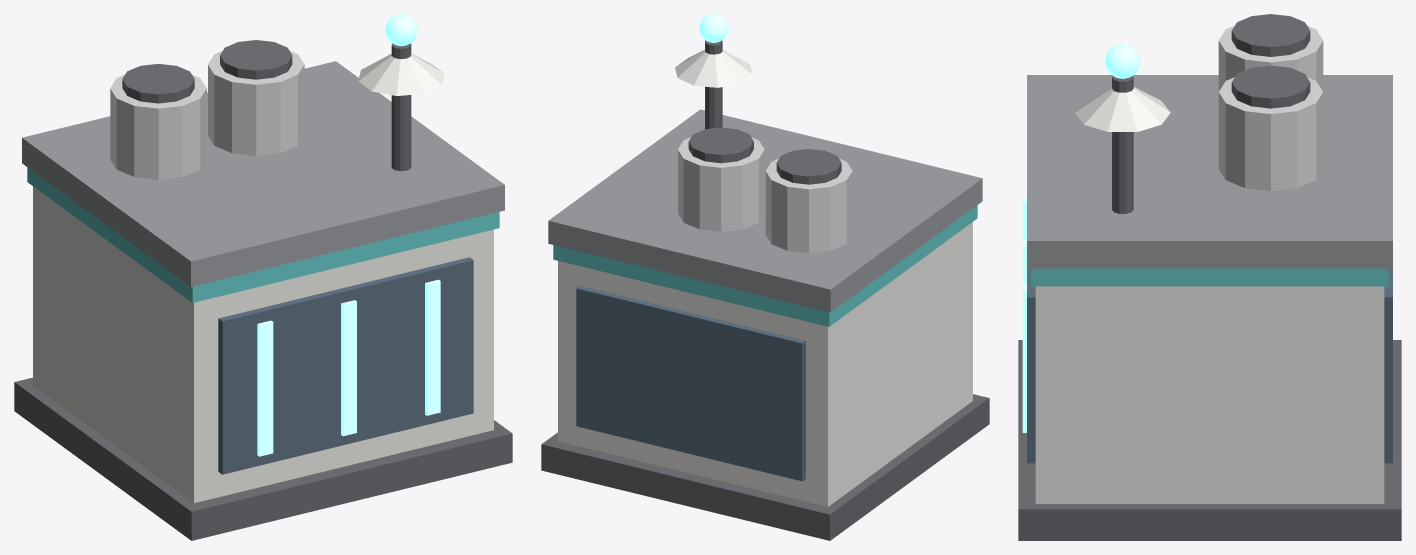
The model's file is data_center.glb.
3 renders of one model, left to right at view 1: azimuth 30°, elevation 25°; view 2: azimuth 150°, elevation 25°; view 3: azimuth 270°, elevation 25°, orthographic. The views are drawn at different scales.
Parts seen in each view (by area): view 1: hull, roof, rack_front, plinth, cooler_a, cooler_b, trim, dish, fan_b, fan_a, led_bar_0, led_bar_1 (+3 smaller); view 2: hull, roof, rack_back, plinth, cooler_a, cooler_b, trim, dish, fan_a, fan_b, mast, Beacon; view 3: hull, roof, plinth, cooler_b, trim, dish, cooler_a, fan_b, fan_a, mast, rack_back, rack_front (+2 smaller).
Part boxes in pixels (x1,y1,x2,y2): hull: (33,186,493,503); roof: (22,61,504,286); rack_front: (218,257,473,474); plinth: (14,377,512,540); cooler_a: (110,74,206,179); cooler_b: (208,51,304,155); trim: (27,167,499,302); dish: (358,53,444,95); fan_b: (220,40,292,79); fan_a: (122,63,194,103); led_bar_0: (257,320,273,456); led_bar_1: (341,300,356,436); hull: (558,222,972,506); roof: (548,109,982,312); rack_back: (576,286,805,481); plinth: (541,394,989,540); cooler_a: (765,158,852,253); cooler_b: (678,137,764,231); trim: (553,205,977,326); dish: (675,49,752,87); fan_a: (776,149,841,184); fan_b: (688,127,753,163); mast: (705,40,722,129); Beacon: (699,14,728,42); hull: (1035,286,1384,503); roof: (1027,75,1392,268); plinth: (1018,340,1401,540); cooler_b: (1218,77,1323,190); trim: (1031,268,1388,286); dish: (1075,87,1170,131); cooler_a: (1218,25,1323,91); fan_b: (1231,65,1310,108); fan_a: (1231,14,1310,56); mast: (1112,76,1133,213); rack_back: (1384,268,1392,463); rack_front: (1027,268,1035,463).
Bounding box in the file's own units: 0.92 × 1.17 × 0.88.
